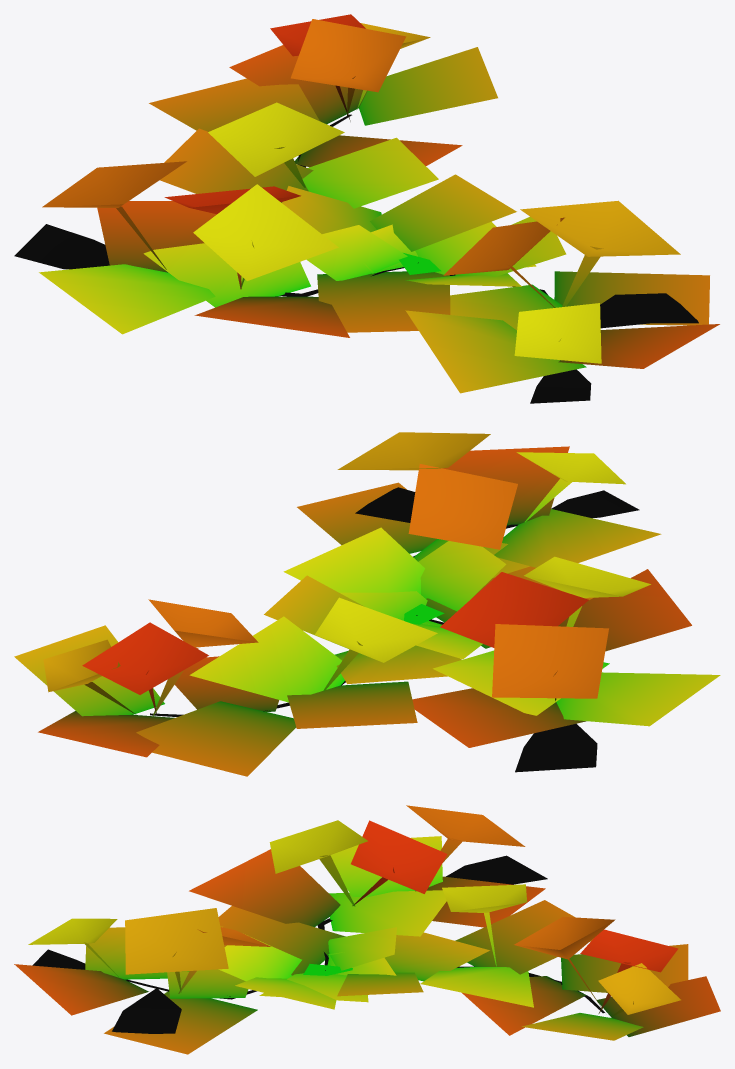
Rendered from Var2_LOD2.fbx.
3 renders of one model, top to bottom at view 1: azimuth 30°, elevation 25°; view 2: azimuth 150°, elevation 25°; view 3: azimuth 270°, elevation 25°, orthographic. The views are drawn at different scales.
Parts seen in each view (by area): view 1: Var2_LOD2; view 2: Var2_LOD2; view 3: Var2_LOD2.
Boxes of the visible parts, x1,y1,x2,y2 form: Var2_LOD2: (14, 14, 719, 403); Var2_LOD2: (14, 432, 720, 776); Var2_LOD2: (14, 805, 720, 1054).
Size of the model in its own units: 35.27 by 6.56 by 48.5.
